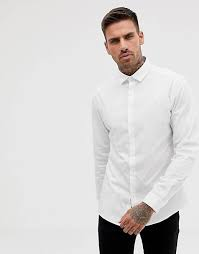S_shirt: (76, 58, 198, 227)
